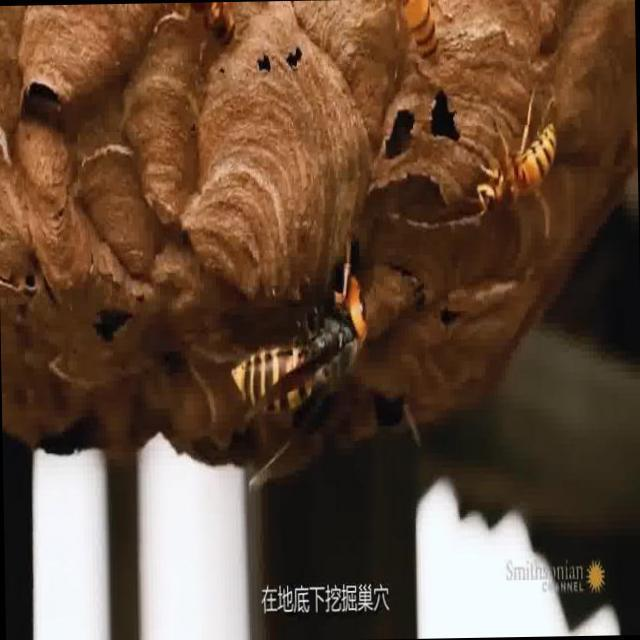Wasp: (223, 230, 375, 421)
